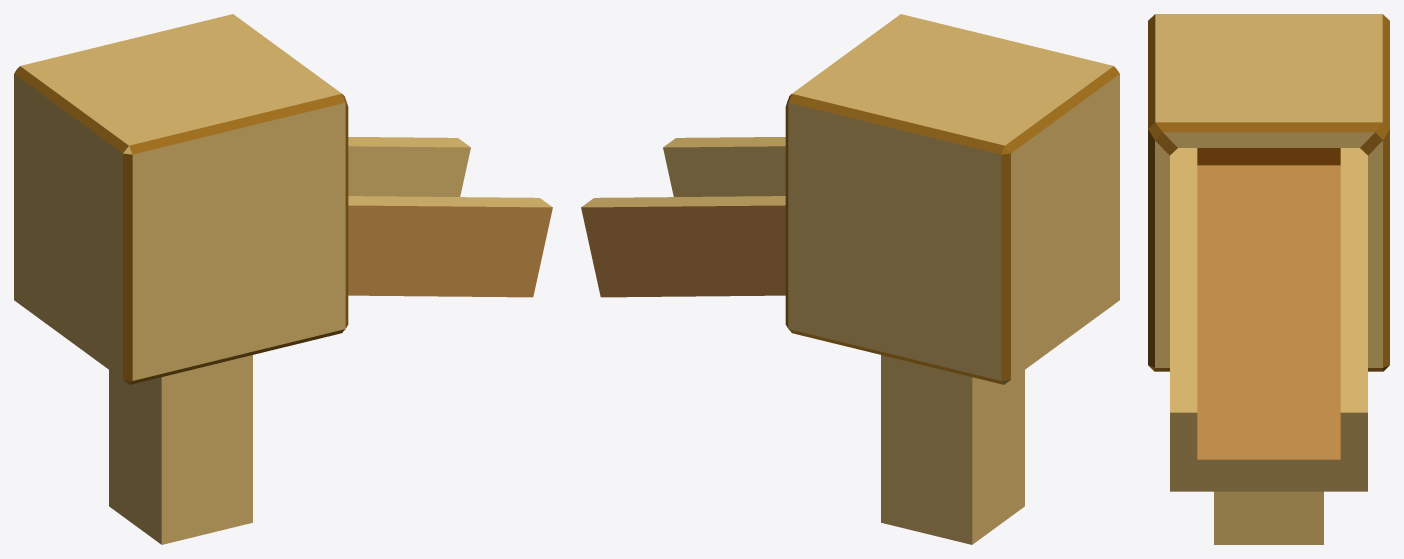
Rendered from 1_water_tap.fbx.
The picture shows the model from 3 angles, left to right: view 1: azimuth 30°, elevation 25°; view 2: azimuth 150°, elevation 25°; view 3: azimuth 270°, elevation 25°; orthographic projection. The views are drawn at different scales.
Parts seen in each view (by area): view 1: 1_water_tap; view 2: 1_water_tap; view 3: 1_water_tap.
Part boxes in pixels (<box>): 1_water_tap: <box>14,14,552,544</box>; 1_water_tap: <box>581,14,1119,544</box>; 1_water_tap: <box>1148,14,1389,544</box>.
Bounding box in the file's own units: 73.95 × 70.3 × 33.98.
